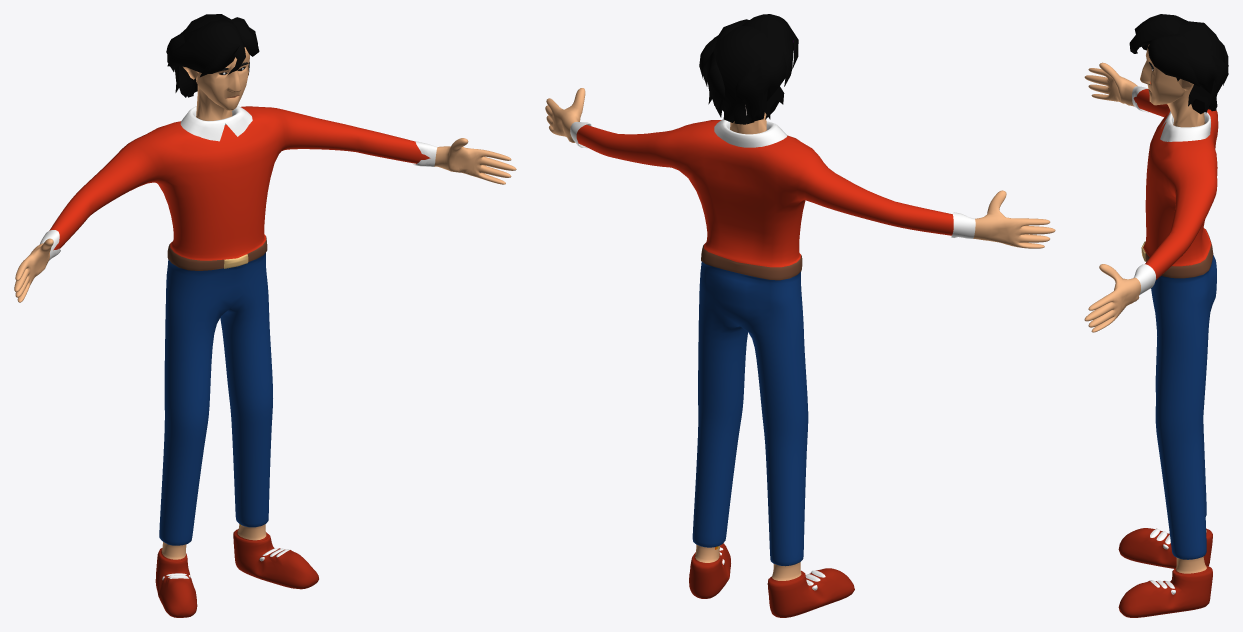
File: showcaseCartoonRunnerHero.6f06813c.glb
3 views of the same model, side by side, from view 1: azimuth 30°, elevation 25°; view 2: azimuth 150°, elevation 25°; view 3: azimuth 270°, elevation 25° (orthographic).
Parts seen in each view (by area): view 1: Cartoon Character_0; view 2: Cartoon Character_0; view 3: Cartoon Character_0.
Boxes of the visible parts, x1,y1,x2,y2 form: Cartoon Character_0: [14, 14, 516, 617]; Cartoon Character_0: [545, 14, 1055, 617]; Cartoon Character_0: [1084, 14, 1228, 617].
Size of the model in its own units: 9.85 by 10.7 by 2.46.
Materials: 1 (1 with a texture image).
